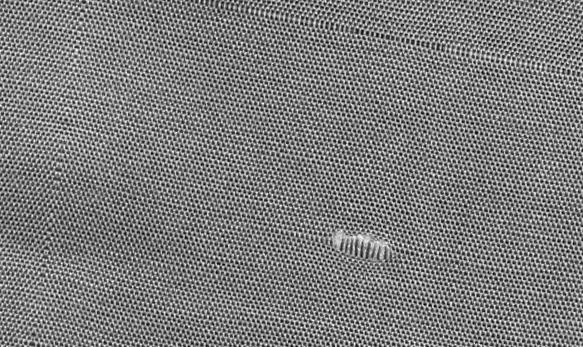slub: (321, 227, 397, 268)
